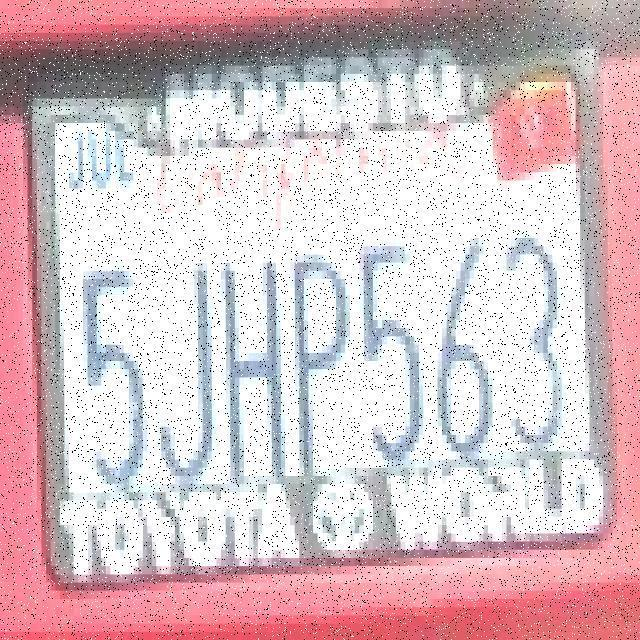LicensePlate: (21, 60, 628, 600)
